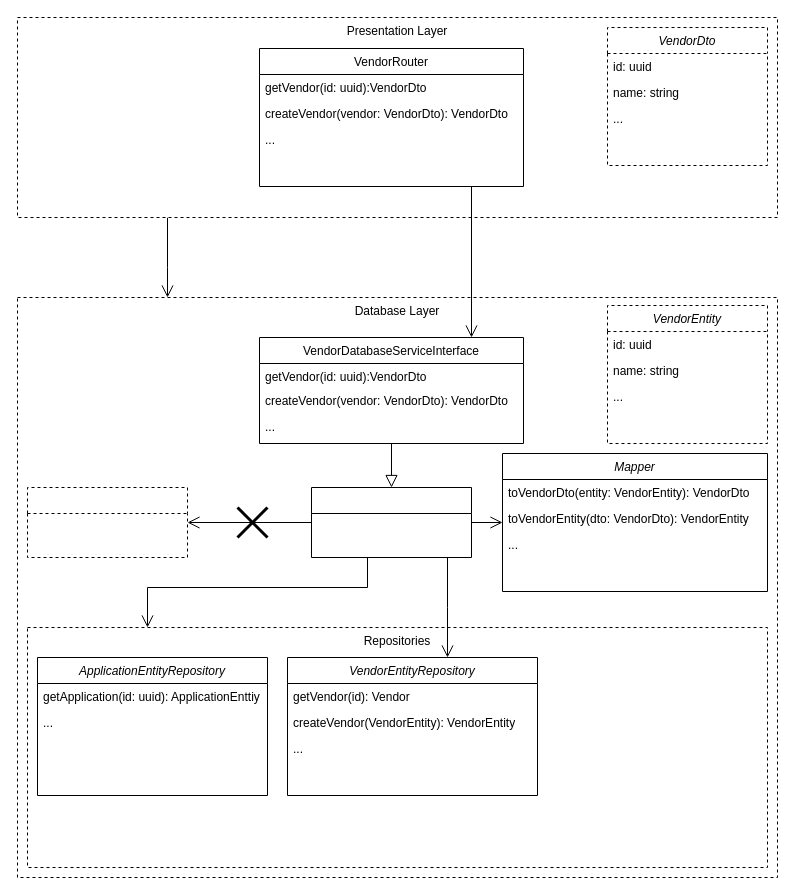
This 795x895 diagram has some shape labels left out. The centre of each missing label's shape, as x and y in pixels:
ApplicationDatabaseService: the point at 107,522
VendorDatabaseService: the point at 391,522
